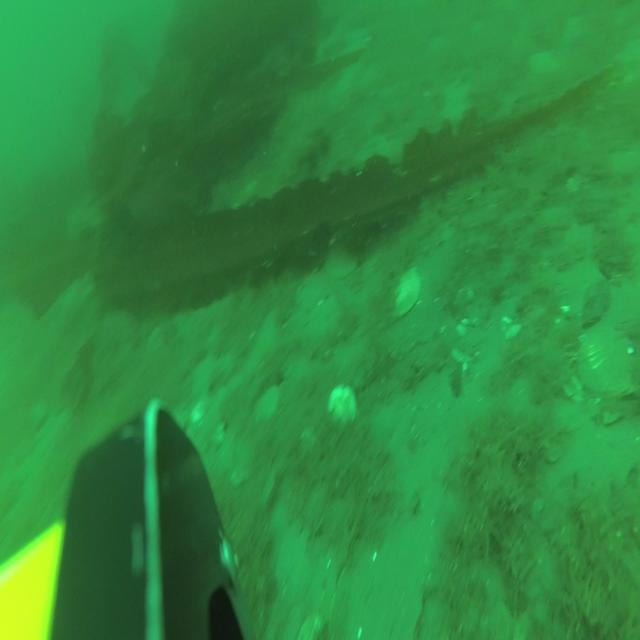scallop: (576, 316, 632, 392), (389, 268, 423, 316), (326, 382, 355, 422), (324, 248, 359, 281)
